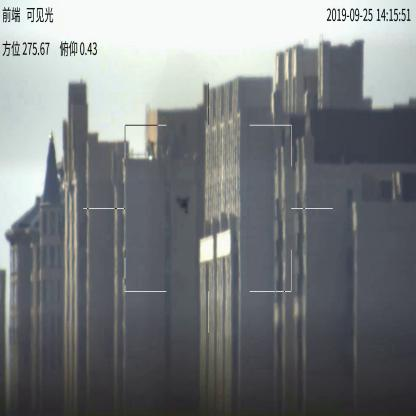uav: (177, 195, 190, 214)
